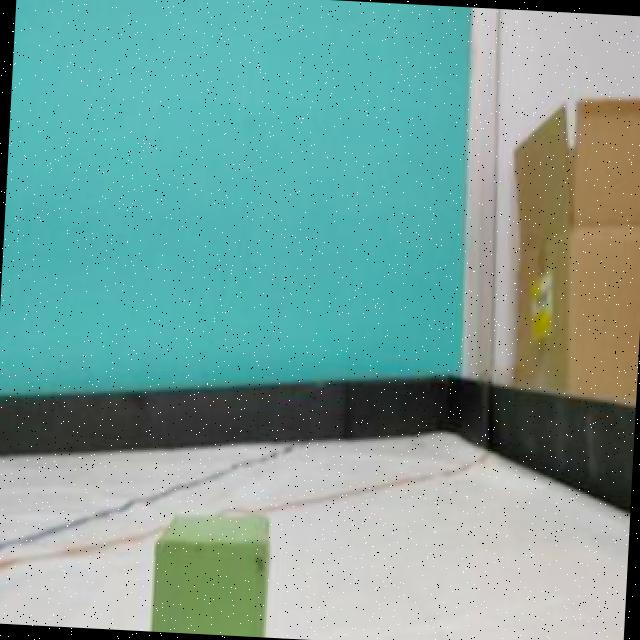greenbox: (152, 503, 276, 638)
